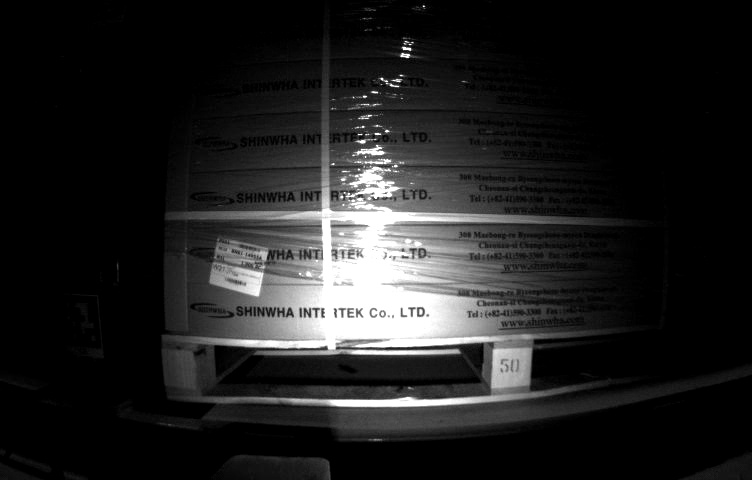True Barcode: (212, 235, 265, 297)
